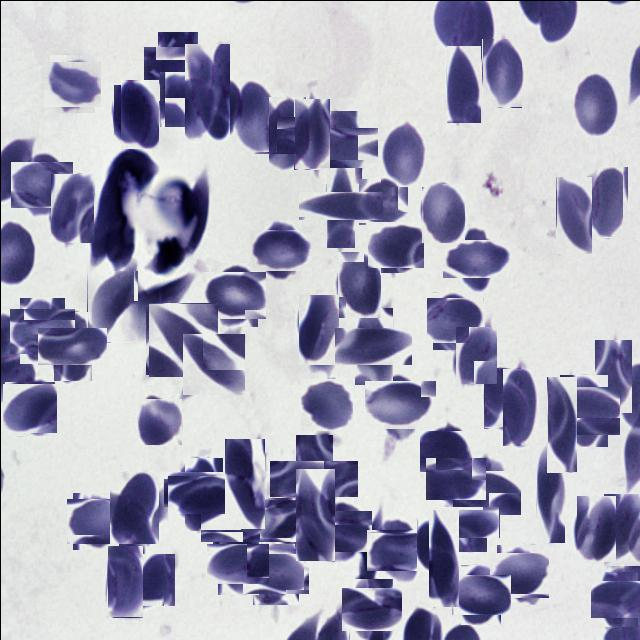red blood cell: (146, 303, 218, 375), (184, 43, 229, 140), (282, 446, 345, 509), (182, 332, 244, 394), (294, 468, 334, 561), (86, 270, 137, 342), (553, 380, 613, 440), (370, 374, 430, 434), (224, 438, 264, 528), (109, 471, 158, 543), (344, 317, 402, 374), (313, 118, 369, 175), (206, 266, 262, 322), (14, 302, 70, 358), (247, 543, 303, 599), (458, 464, 514, 520), (258, 106, 314, 162), (312, 176, 368, 232), (175, 466, 231, 522), (49, 173, 93, 243), (235, 78, 276, 151), (585, 166, 627, 237), (381, 120, 426, 186), (572, 68, 617, 134), (336, 251, 380, 318), (150, 38, 204, 92), (372, 522, 426, 576), (45, 318, 99, 372), (428, 509, 458, 606), (546, 376, 576, 472), (15, 158, 68, 212), (448, 232, 502, 284), (206, 494, 258, 548), (298, 294, 338, 364), (602, 493, 640, 566), (555, 176, 591, 253), (481, 38, 521, 107), (300, 377, 352, 430), (536, 444, 564, 542), (69, 494, 121, 546), (254, 224, 306, 276), (492, 548, 544, 600), (429, 294, 481, 346), (3, 382, 55, 434), (314, 505, 366, 557), (212, 537, 264, 589), (344, 582, 396, 634), (594, 339, 631, 412), (575, 495, 615, 562), (46, 58, 98, 109), (420, 183, 464, 243), (120, 79, 158, 148), (446, 45, 480, 122), (502, 368, 536, 445), (430, 452, 480, 504), (106, 545, 142, 617), (293, 98, 329, 169), (370, 218, 420, 269), (455, 569, 505, 619), (454, 326, 496, 384), (170, 464, 218, 514), (130, 553, 174, 606), (358, 177, 406, 225), (200, 76, 239, 134), (483, 367, 520, 428), (594, 576, 640, 622), (112, 84, 149, 141), (421, 428, 467, 473), (137, 398, 181, 444), (448, 499, 492, 544), (416, 518, 454, 570), (260, 498, 304, 542), (158, 71, 189, 127)
